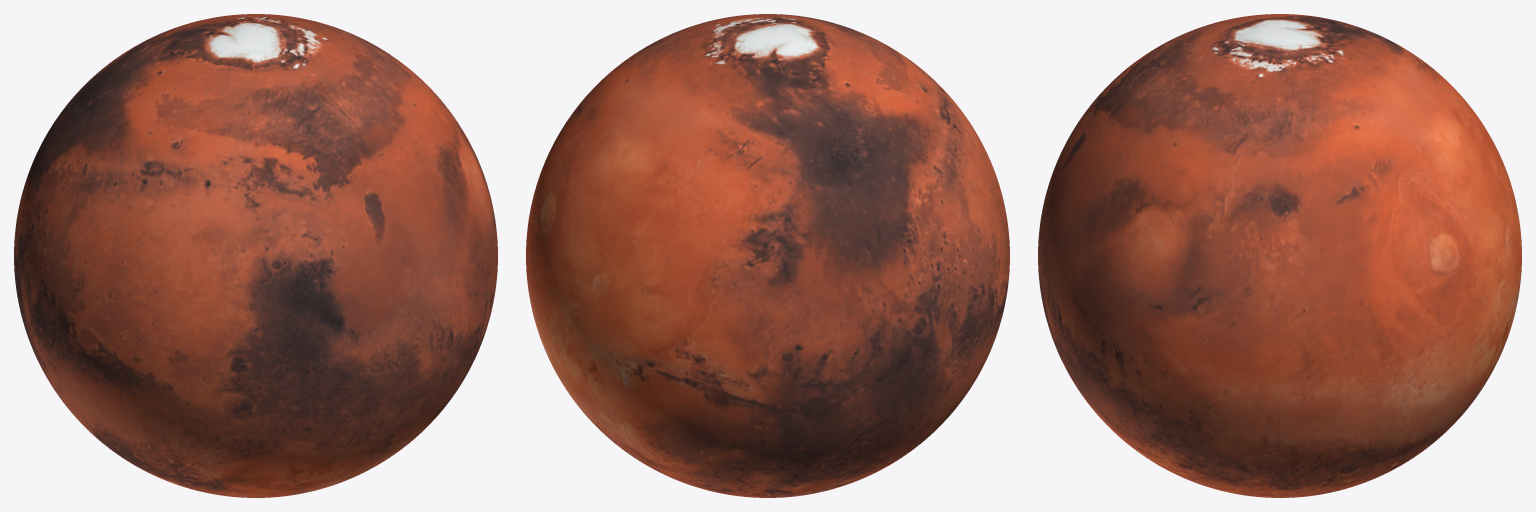
The model's file is mart.glb.
3 renders of one model, left to right at view 1: azimuth 30°, elevation 25°; view 2: azimuth 150°, elevation 25°; view 3: azimuth 270°, elevation 25°, orthographic.
Visible parts, largest first — view 1: Geode; view 2: Geode; view 3: Geode.
Part boxes in pixels (x1,y1,x2,y2): Geode: (14,14,497,497); Geode: (526,14,1009,497); Geode: (1038,14,1521,497).
Size of the model in its own units: 200 by 200 by 200.
1 material, 1 textured.
